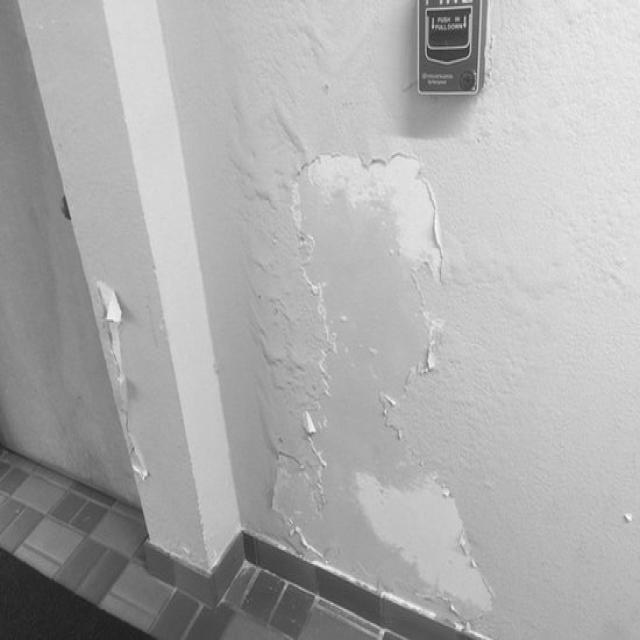peeling paint: (223, 79, 571, 640), (80, 246, 182, 510)
